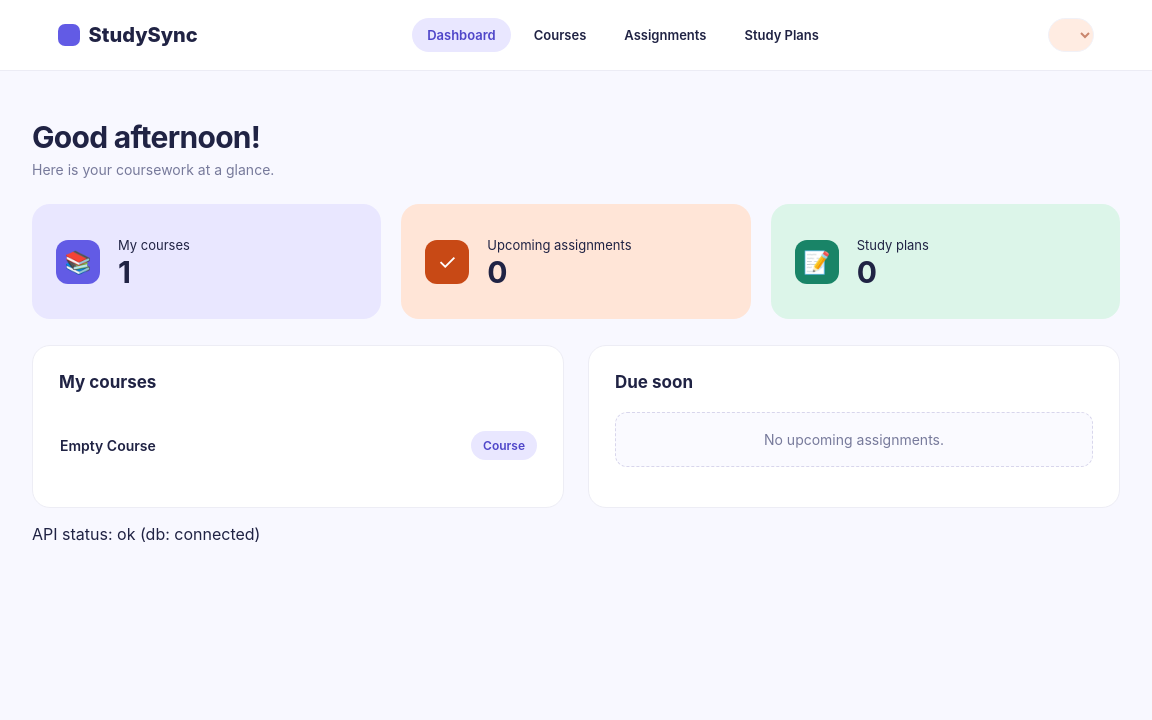
Test: displays an empty state when a course has no assignments
Click the button "Courses": (560, 35) [519, 18, 601, 52]
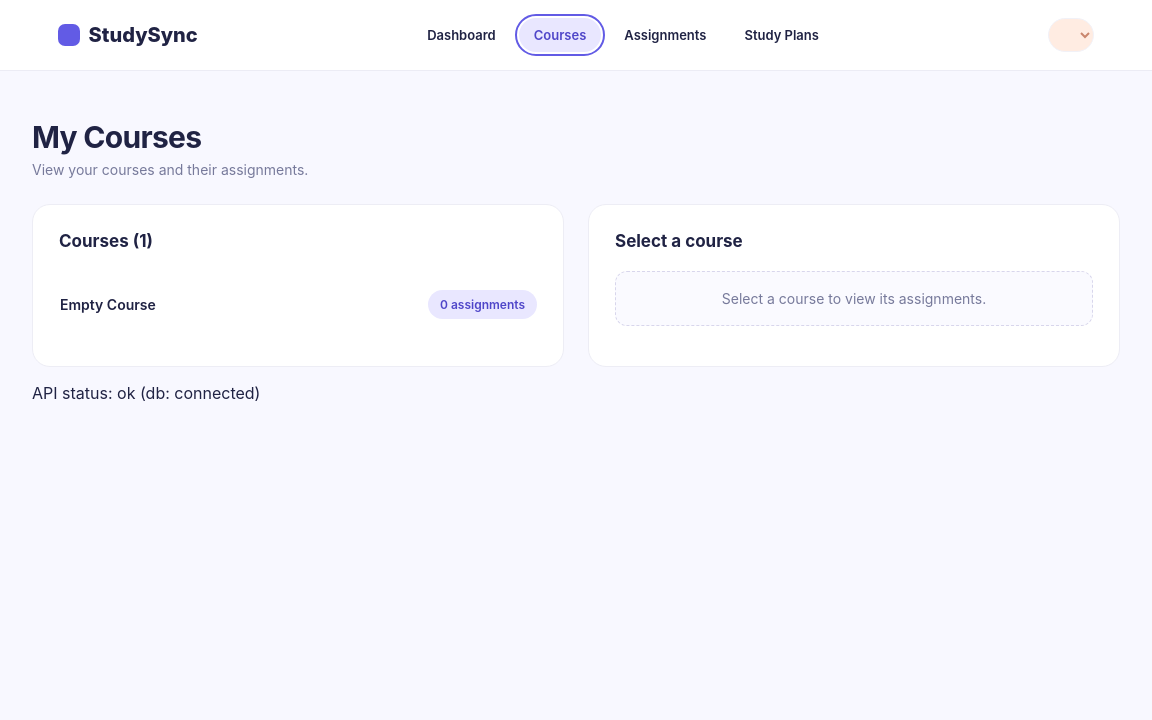
Expected: the heading "Courses (1)" is shown, [59, 231, 153, 251]
Expected: the text "0 assignments" is shown, [428, 290, 537, 319]
Click the button "Empty Course": (108, 304) [47, 286, 169, 323]
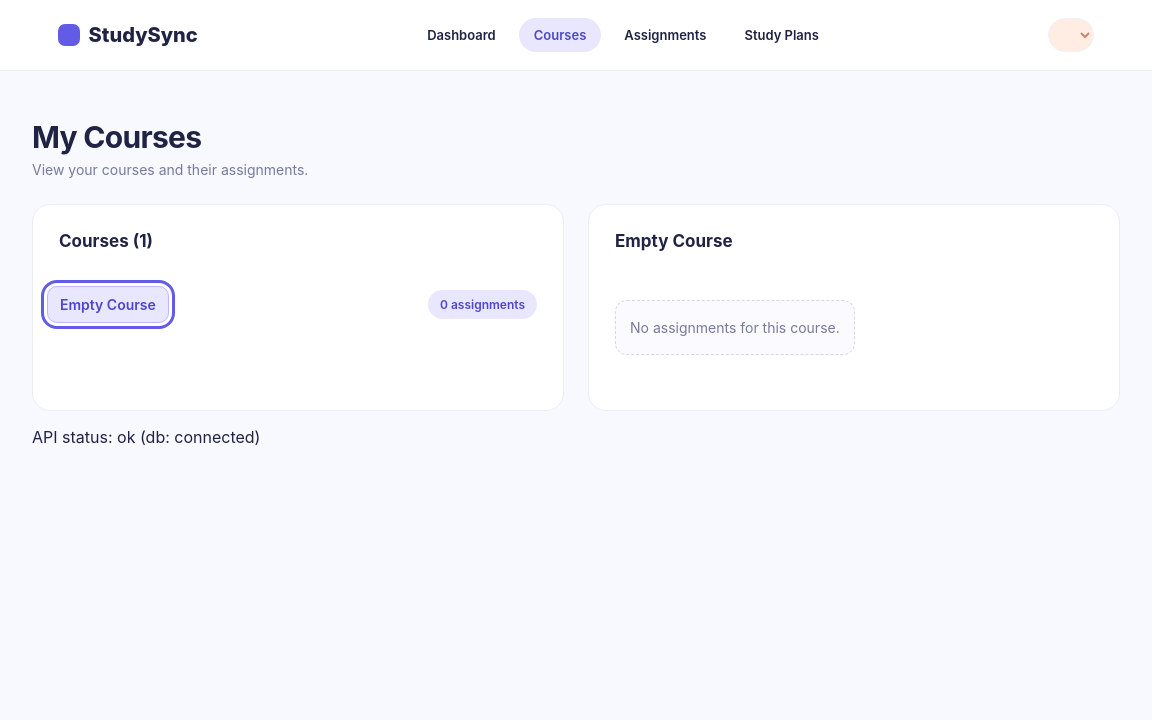
Expected: the text "No assignments for this course." is shown, [615, 300, 855, 355]
